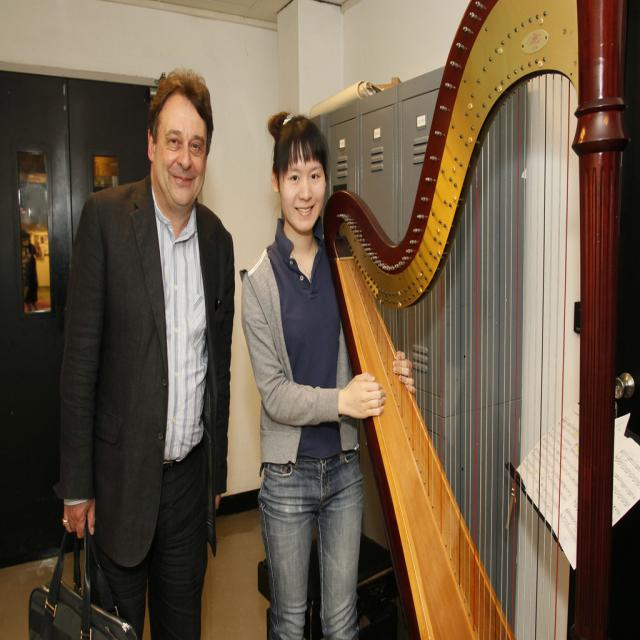harp: (323, 0, 630, 639)
